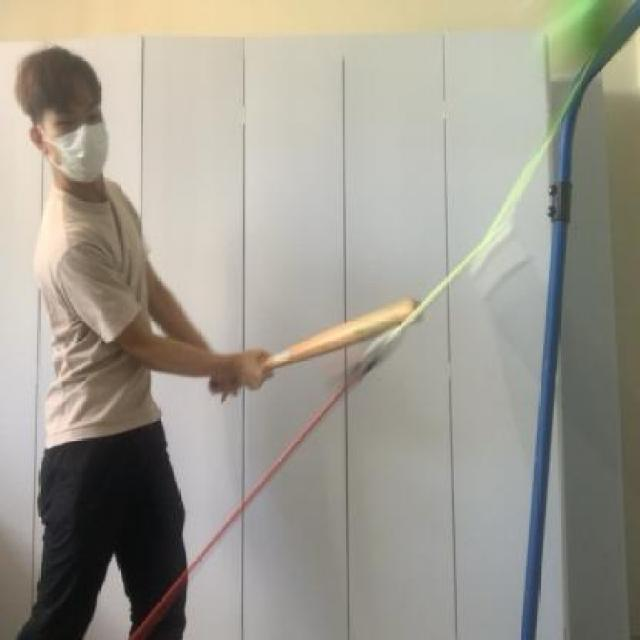baseball: (537, 0, 628, 74)
